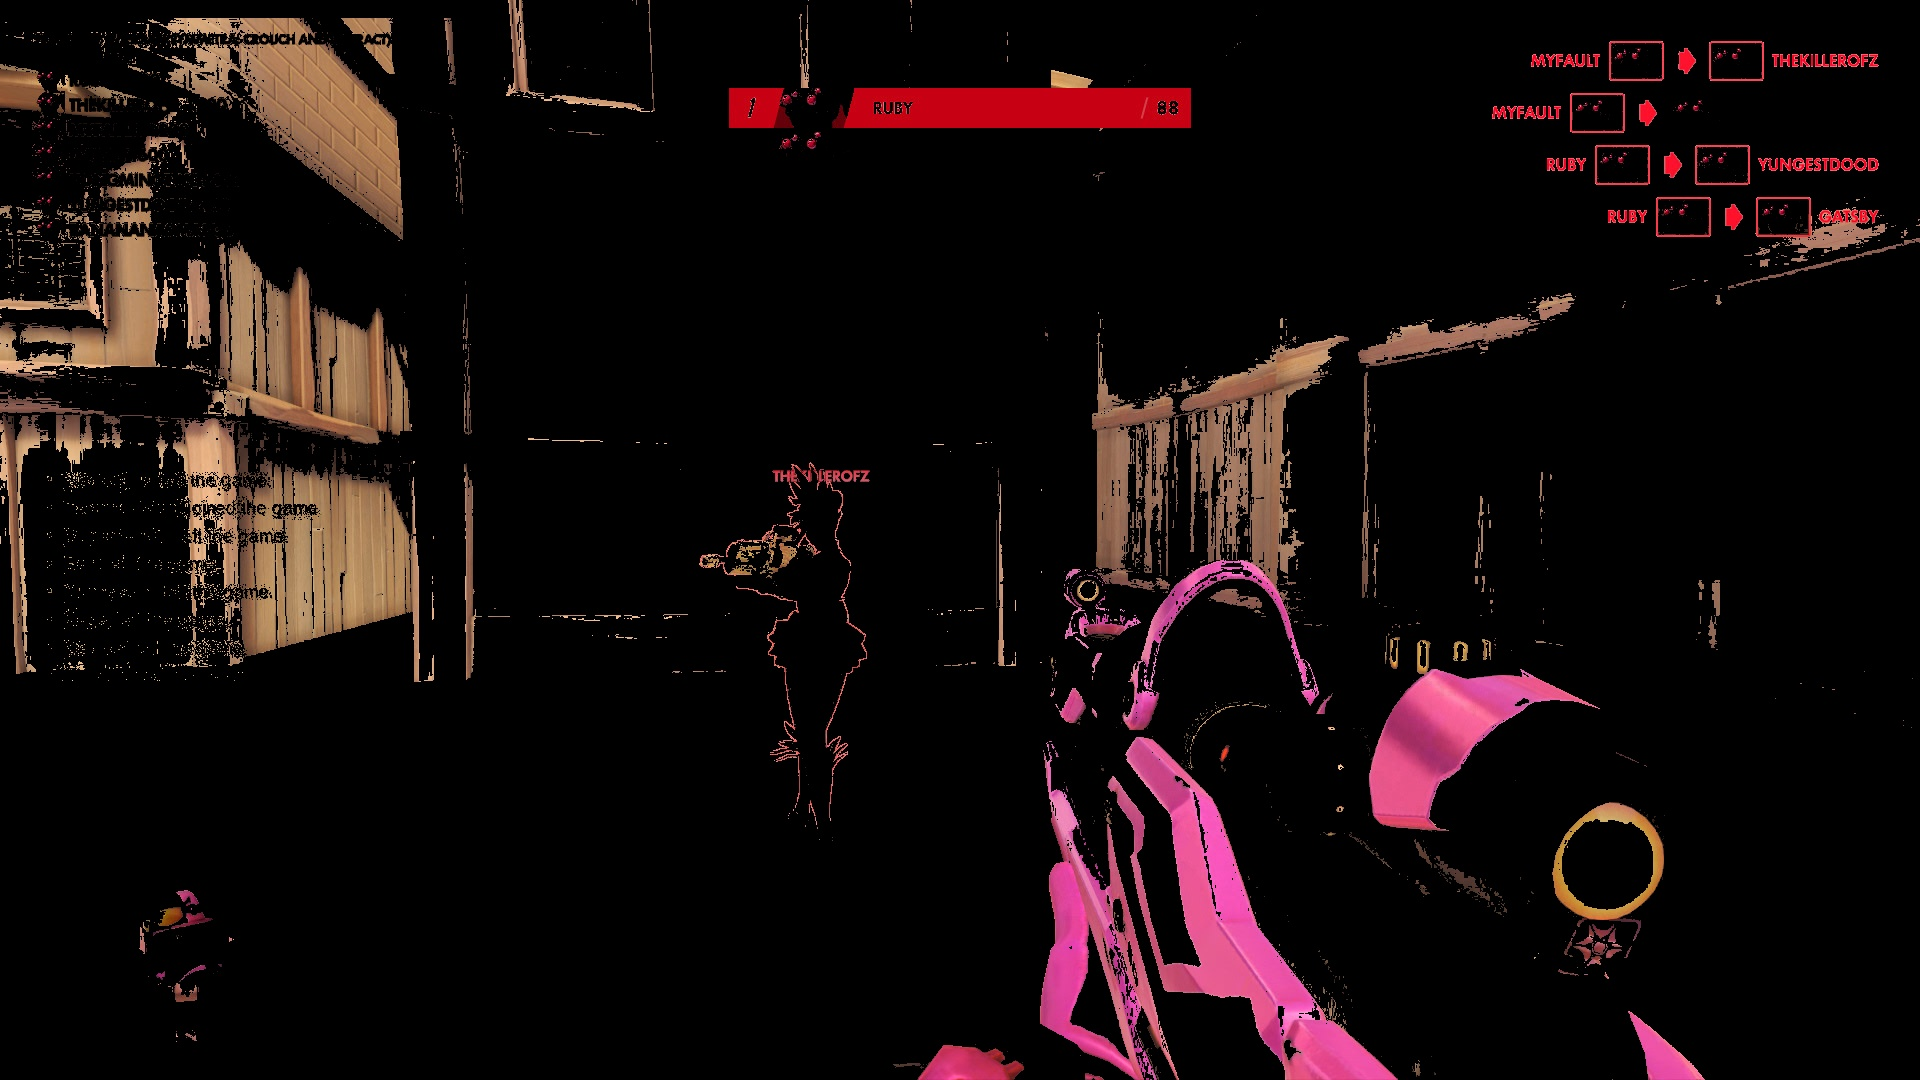widowmaker: (705, 481, 885, 884)
